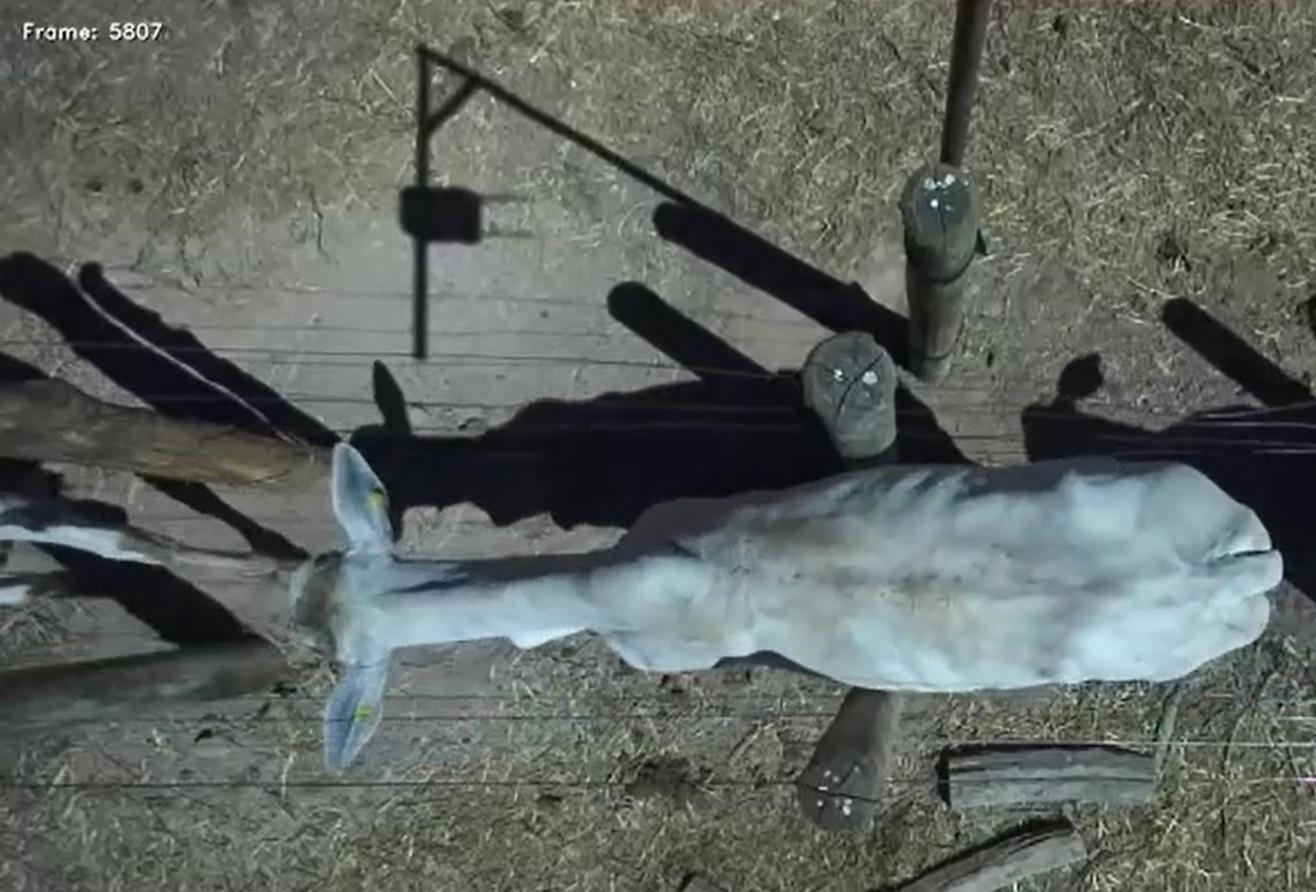cattle: (276, 424, 1299, 781)
